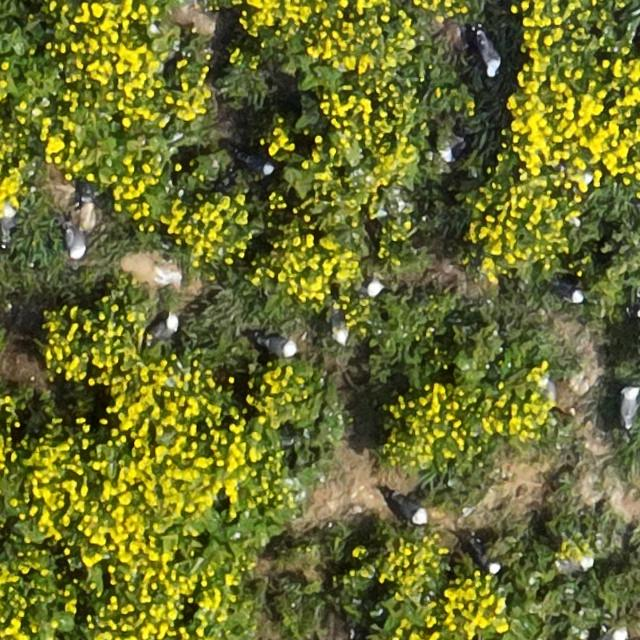umineko: (394, 498, 426, 524), (479, 38, 500, 76), (150, 316, 179, 341), (260, 336, 295, 355), (241, 155, 274, 175), (65, 228, 85, 258), (620, 389, 637, 424), (440, 138, 466, 160), (559, 556, 593, 572), (332, 309, 348, 342), (561, 286, 586, 304), (362, 279, 385, 298)
